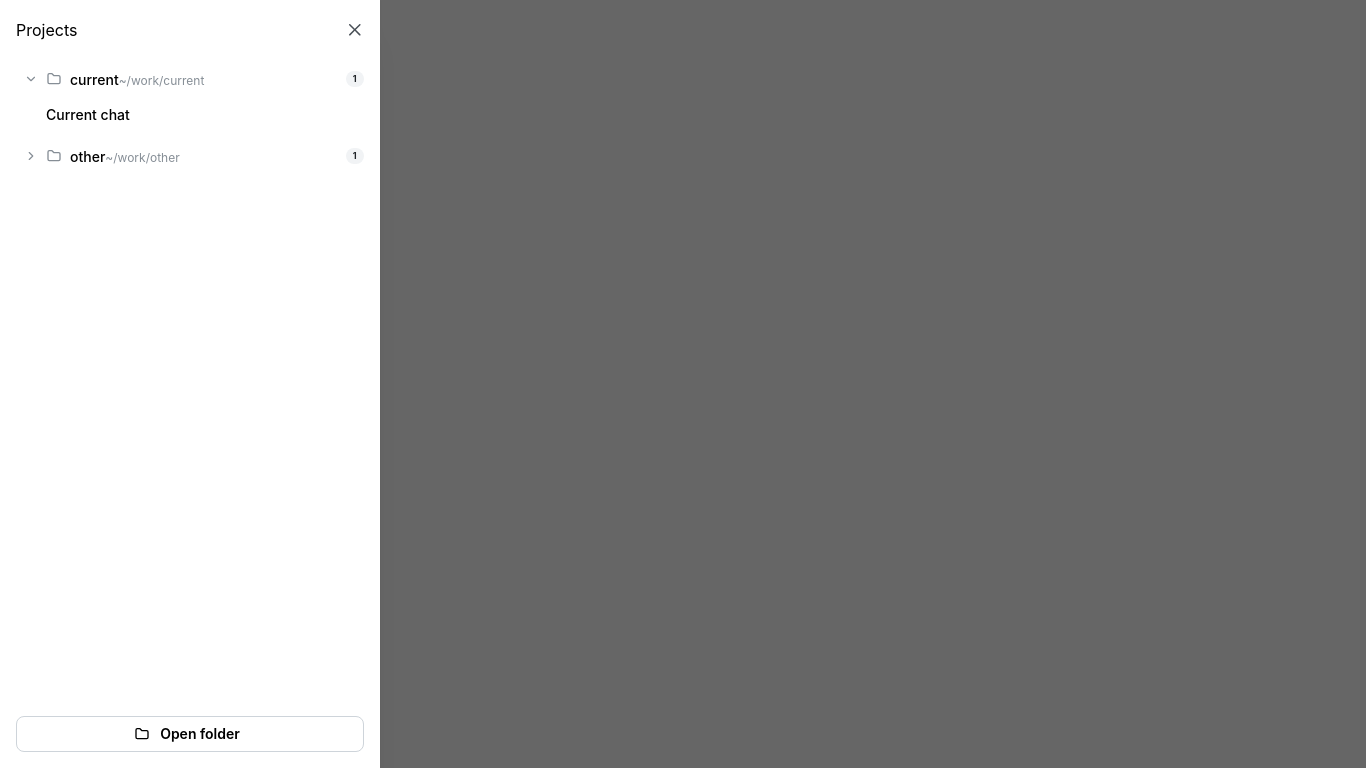
Test case: ProjectSessionDrawer › moves the highlight to the clicked group and expands its sessions
Click the button "other~/work/other".
click(146, 156)  # box [16,137,276,176]
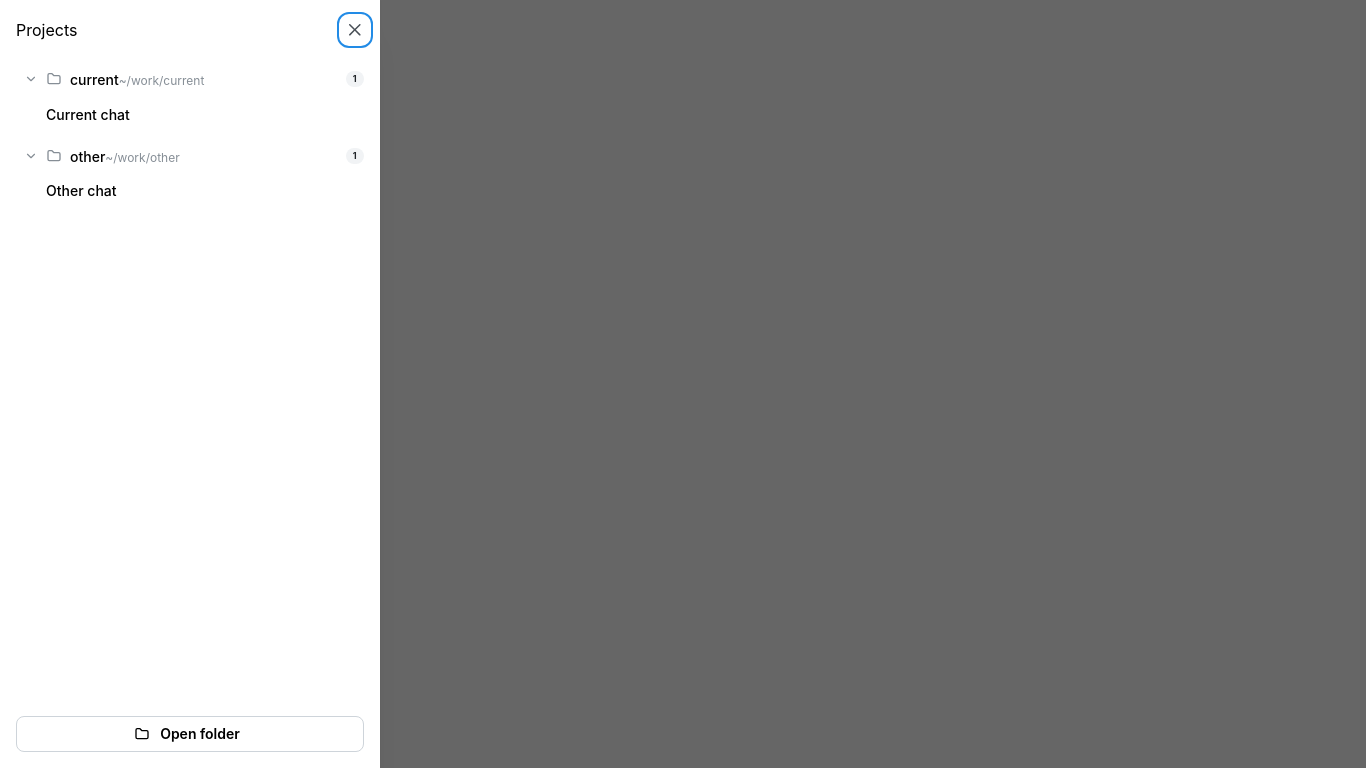
Now the text "Other chat" is shown, box [46,182,116,199]
